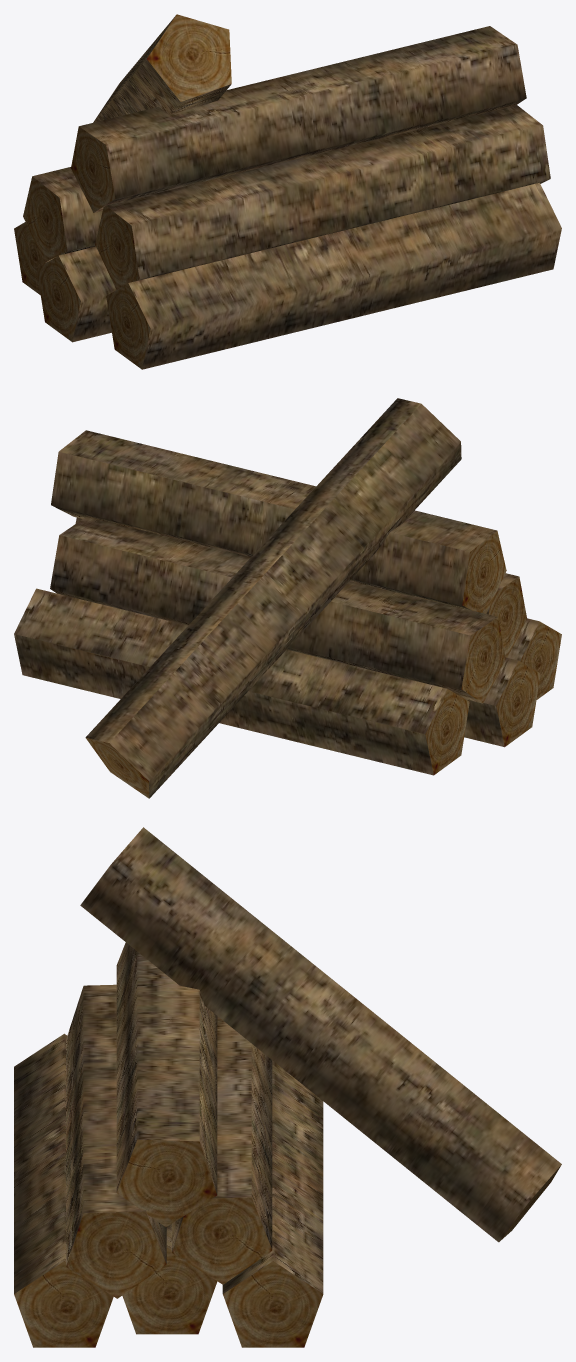
The model's file is Log_stack_a.fbx.
3 renders of one model, top to bottom at view 1: azimuth 30°, elevation 25°; view 2: azimuth 150°, elevation 25°; view 3: azimuth 270°, elevation 25°, orthographic. The views are drawn at different scales.
Visible parts, largest first — view 1: log3, log6, log4, log7, log2, log5, log1; view 2: log7, log1, log6, log5, log2, log3, log4; view 3: log7, log6, log4, log3, log1, log5, log2.
Boxes of the visible parts, box(x1,y1,x2,y2) form: log3: box(106, 182, 561, 369); log6: box(71, 26, 526, 212); log4: box(95, 105, 550, 289); log7: box(93, 14, 231, 122); log2: box(36, 246, 116, 342); log5: box(23, 167, 102, 262); log1: box(14, 222, 47, 294); log7: box(85, 398, 461, 798); log1: box(14, 588, 469, 775); log6: box(51, 430, 506, 613); log5: box(50, 517, 505, 703); log2: box(464, 657, 540, 747); log3: box(507, 618, 561, 699); log4: box(75, 517, 526, 657); log7: box(80, 827, 561, 1242); log6: box(116, 942, 217, 1226); log4: box(66, 984, 166, 1298); log3: box(14, 1033, 113, 1347); log1: box(222, 1060, 323, 1347); log5: box(172, 1016, 272, 1284); log2: box(122, 1224, 217, 1334).
Bounding box in the file's own units: 553 × 357 × 518.
Materials: 1 (1 with a texture image).
